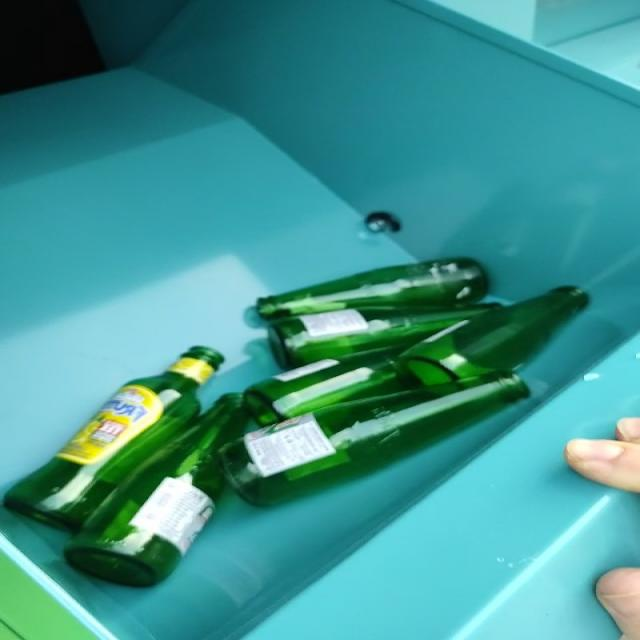glass: (3, 259, 589, 587)
